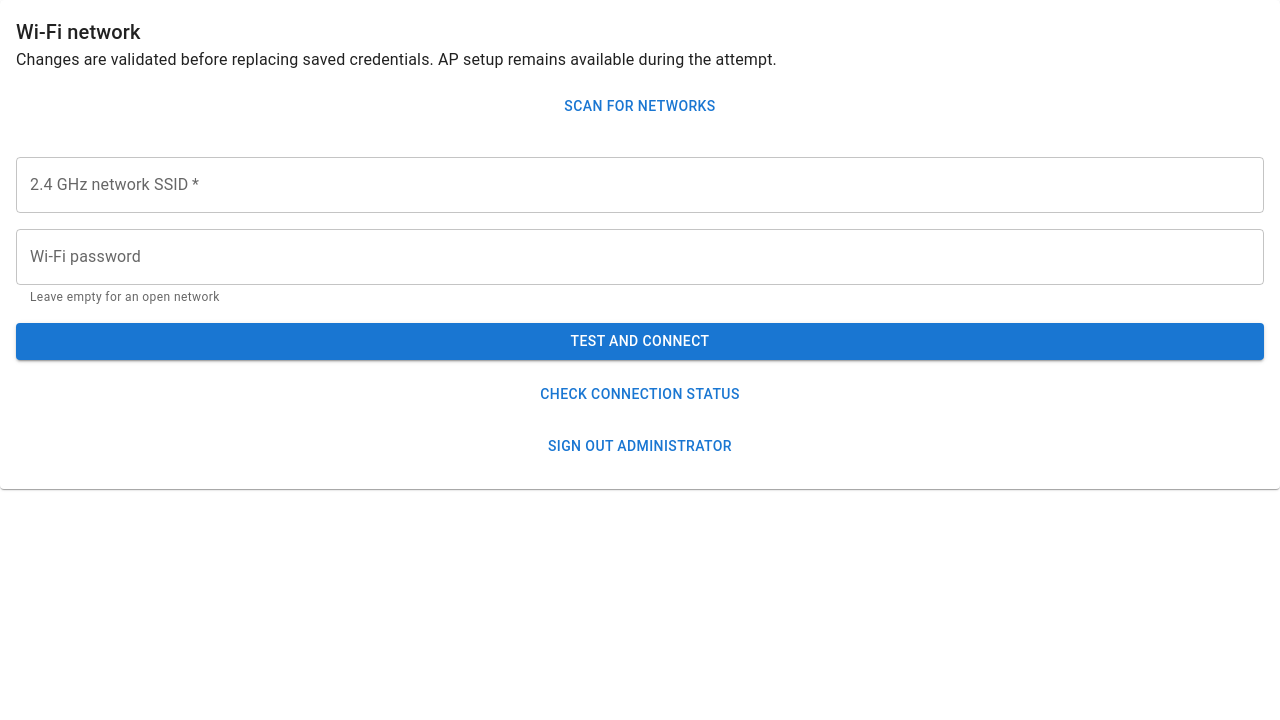
Test: reports a failed candidate without claiming saved credentials were replaced
Type "Test WLAN" into the field labelled "2.4 GHz network SSID *" at [640, 184], box [16,156,1264,212]
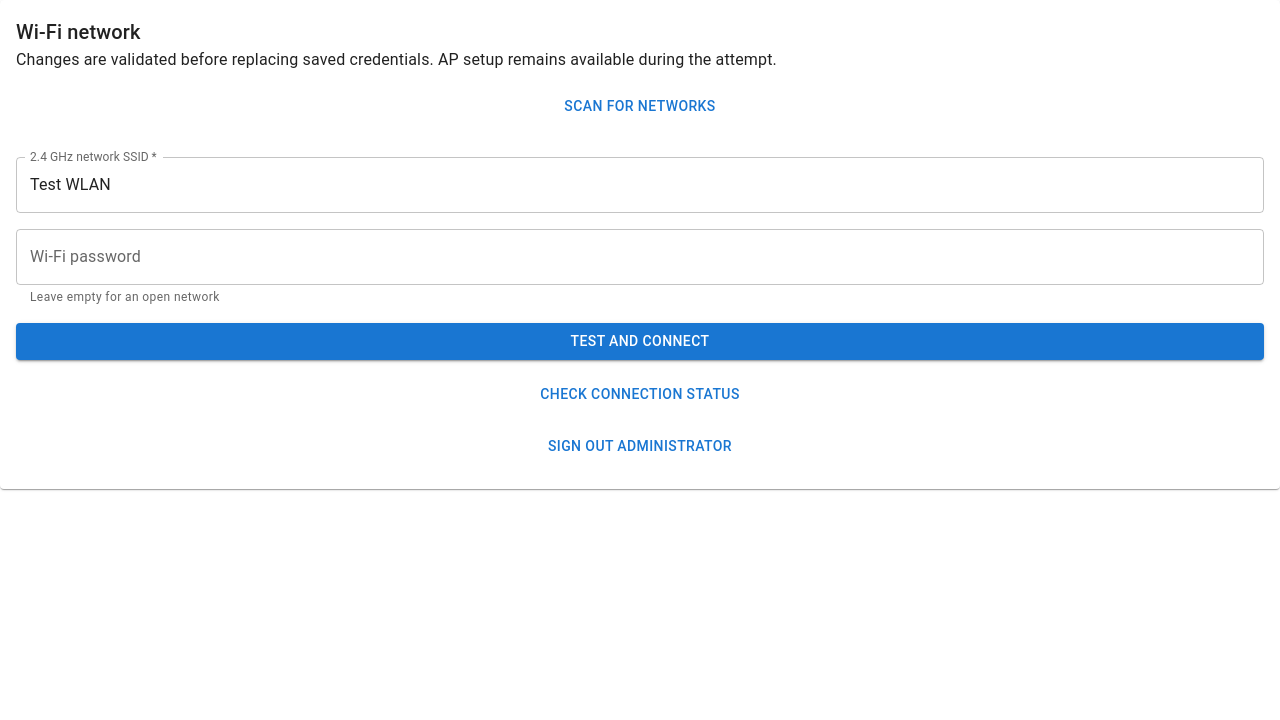
Click the button "Test and connect" at [640, 342], box [16,323,1264,360]
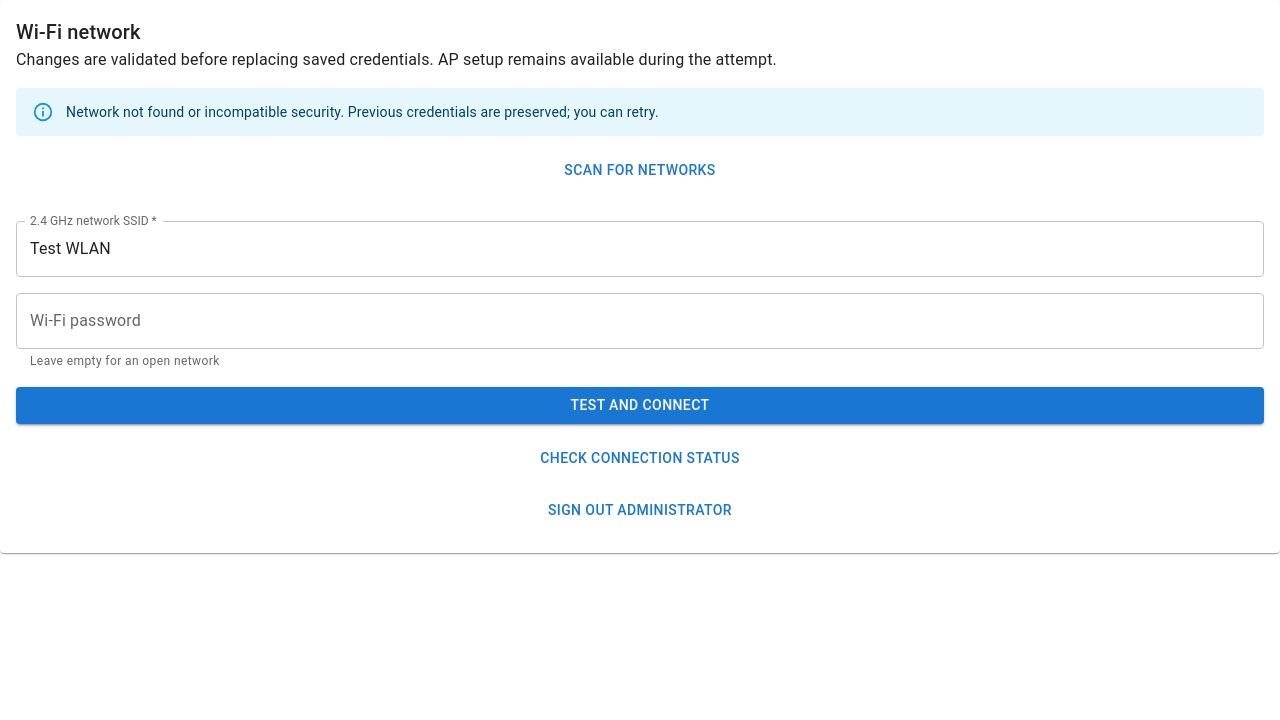
Expected: the button "Test and connect" is enabled, [16,387,1264,424]
Expected: the text "Previous credentials are preserved; you can retry" is shown, [66,104,659,120]
